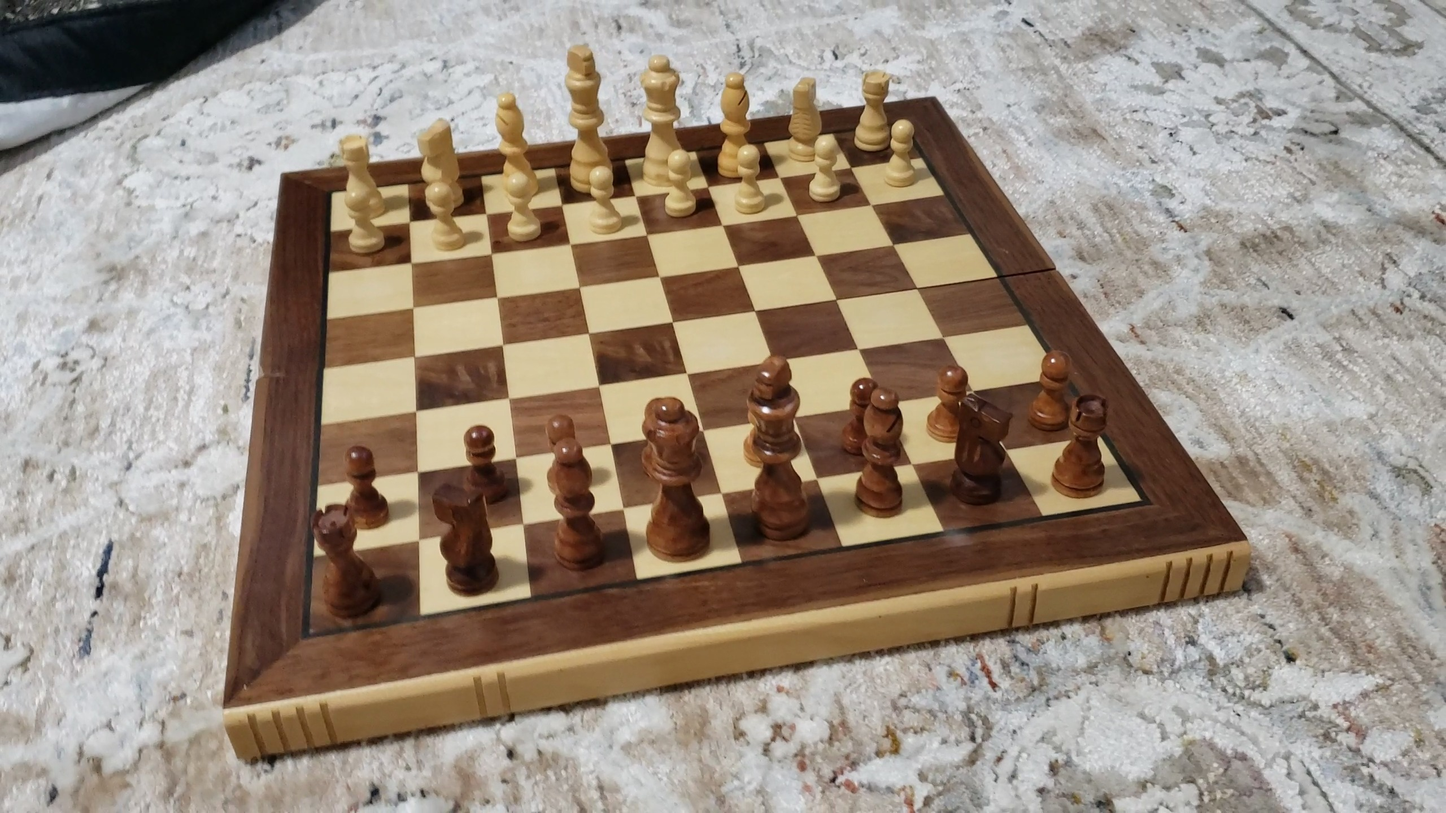black-bishop: (538, 435, 604, 570), (851, 377, 908, 518)
black-king: (737, 350, 813, 543)
black-knight: (947, 389, 1014, 507), (433, 482, 499, 597)
black-pawn: (339, 442, 391, 530), (1026, 348, 1076, 434), (462, 422, 510, 507), (925, 362, 972, 445), (839, 373, 878, 457)
black-queen: (635, 394, 713, 565)
black-rook: (312, 505, 382, 622), (1051, 393, 1113, 500)
white-bishop: (491, 90, 538, 197), (715, 67, 752, 169)
white-king: (560, 37, 613, 194)
white-knight: (413, 115, 465, 212), (781, 74, 826, 164)
white-pawn: (333, 186, 394, 267), (419, 178, 471, 257), (498, 167, 548, 249), (580, 161, 628, 240), (726, 138, 772, 220), (877, 115, 925, 193), (656, 145, 703, 224), (802, 132, 850, 208)
white-queen: (637, 48, 687, 174)
white-rook: (336, 130, 387, 221), (852, 66, 895, 156)
